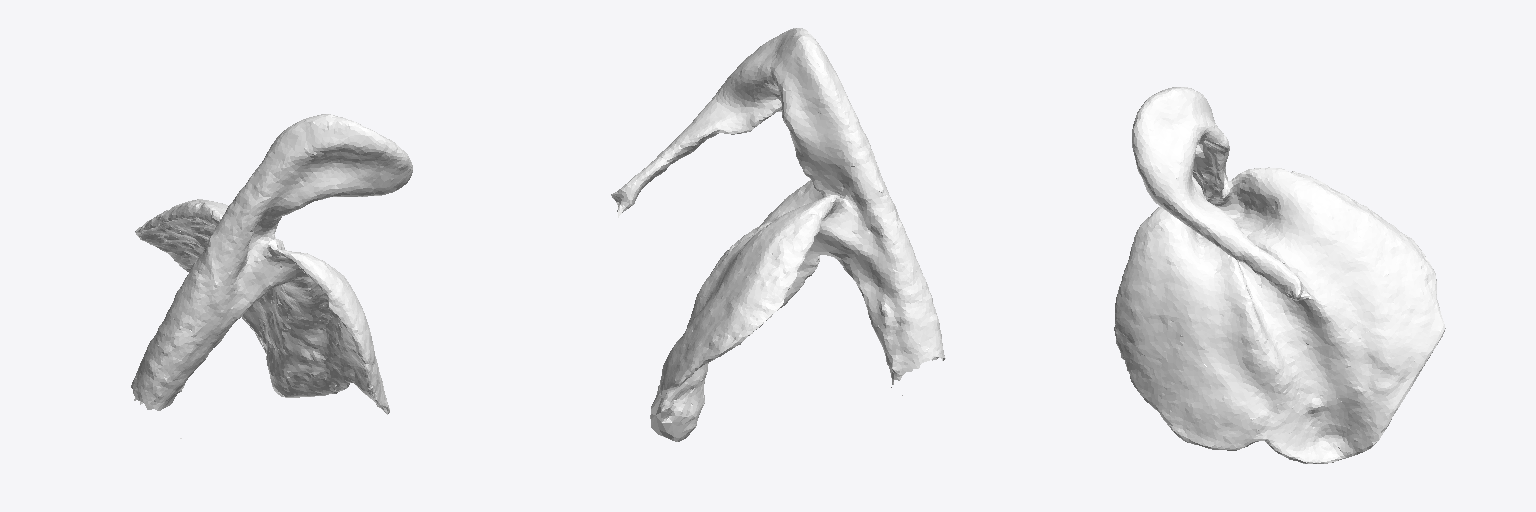
The model's file is axillaris_JJ125.obj.
The picture shows the model from 3 angles: view 1: azimuth 30°, elevation 25°; view 2: azimuth 150°, elevation 25°; view 3: azimuth 270°, elevation 25°; orthographic projection.
Size of the model in its own units: 0.3074 by 0.3479 by 0.2965.